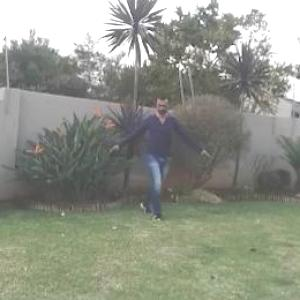land: (98, 84, 209, 225)
